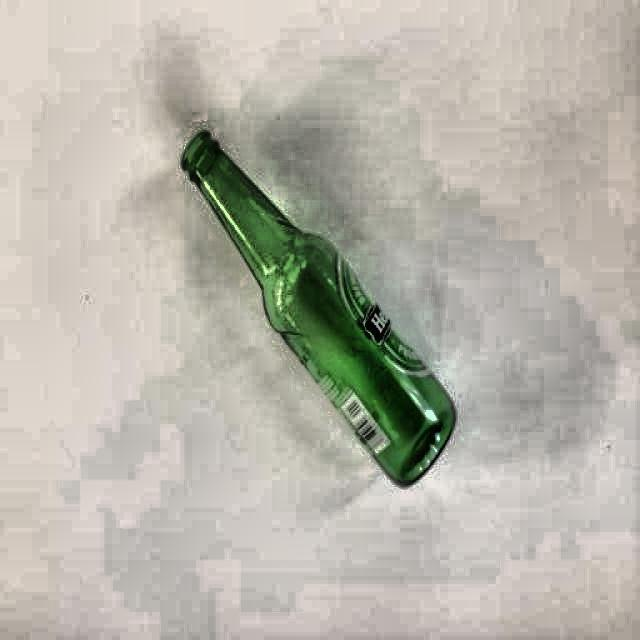glass: (179, 131, 458, 489)
